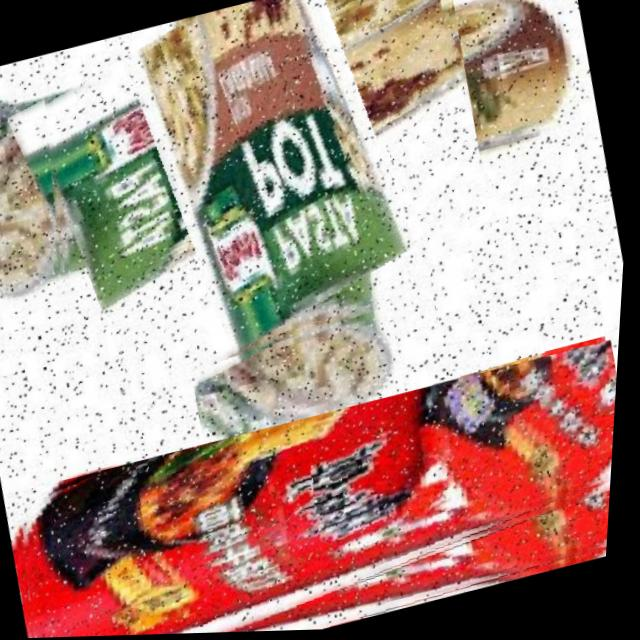Miscellaneous: (0, 0, 522, 410), (2, 342, 624, 639)
